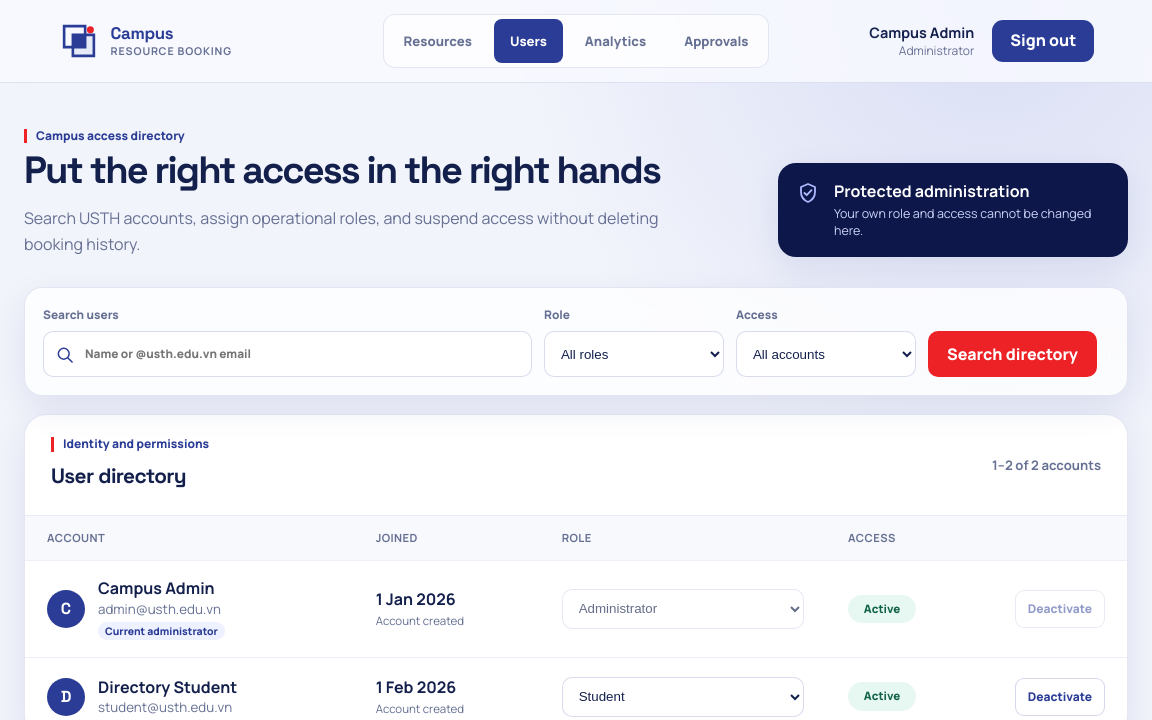
Test: AdminUserManager › confirms a role assignment and focuses the outcome
Select "Staff" in the dropdown named "Role for Directory Student" in the row of "Directory Student": (683, 697) [562, 677, 804, 717]
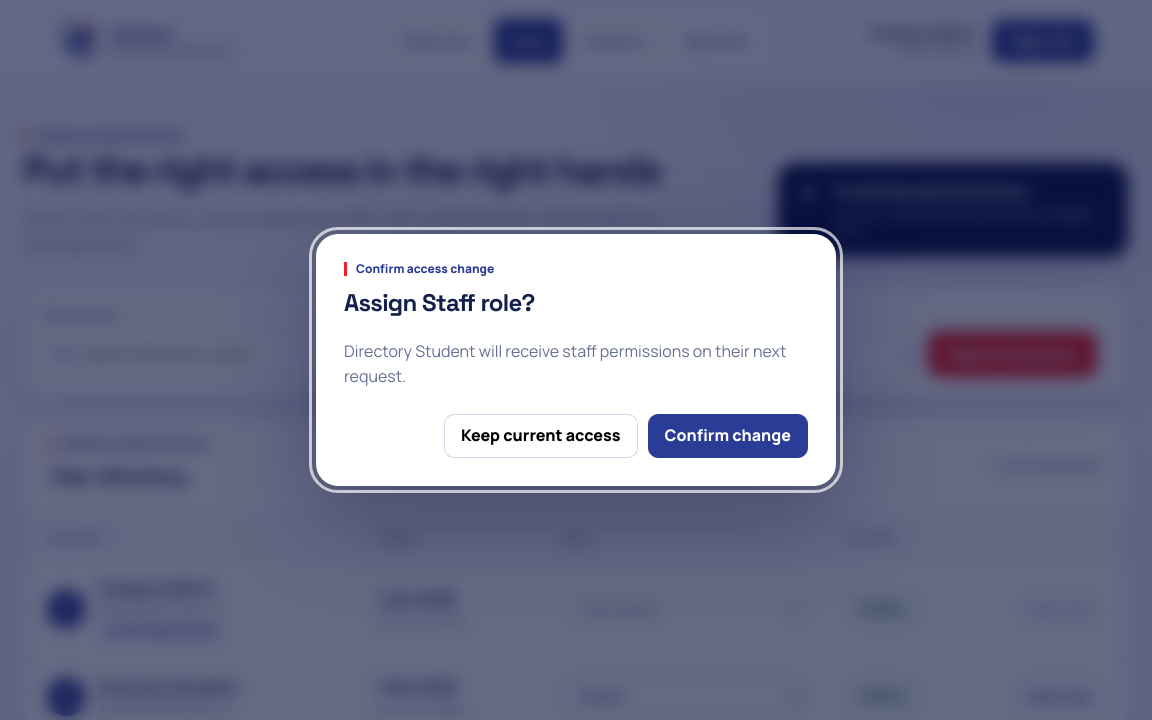
expect the heading "Assign Staff role?" is shown: met, box [344, 287, 535, 318]
Click the button "Confirm change": (728, 436) [648, 414, 808, 458]
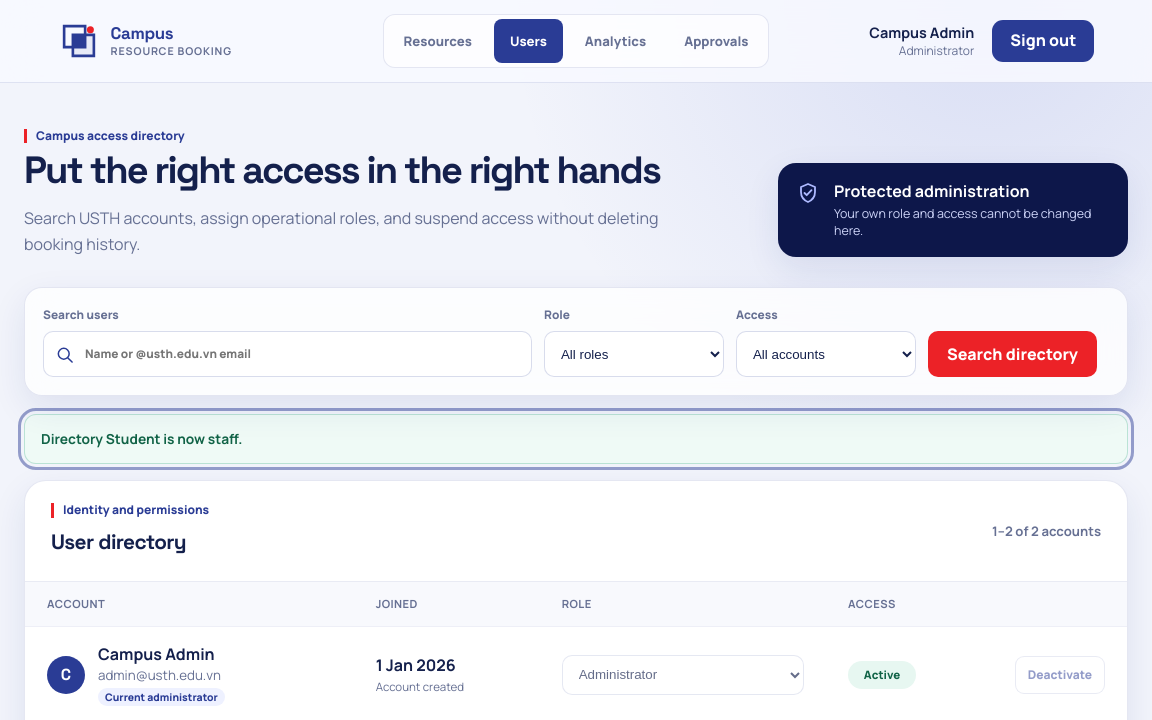
expect the message shows "Directory Student is now staff": met, box [41, 429, 242, 448]
